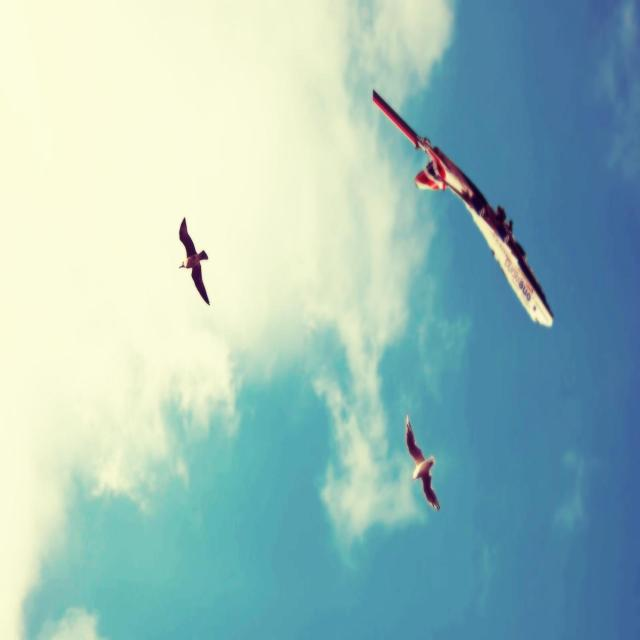airplane: (372, 88, 554, 328)
